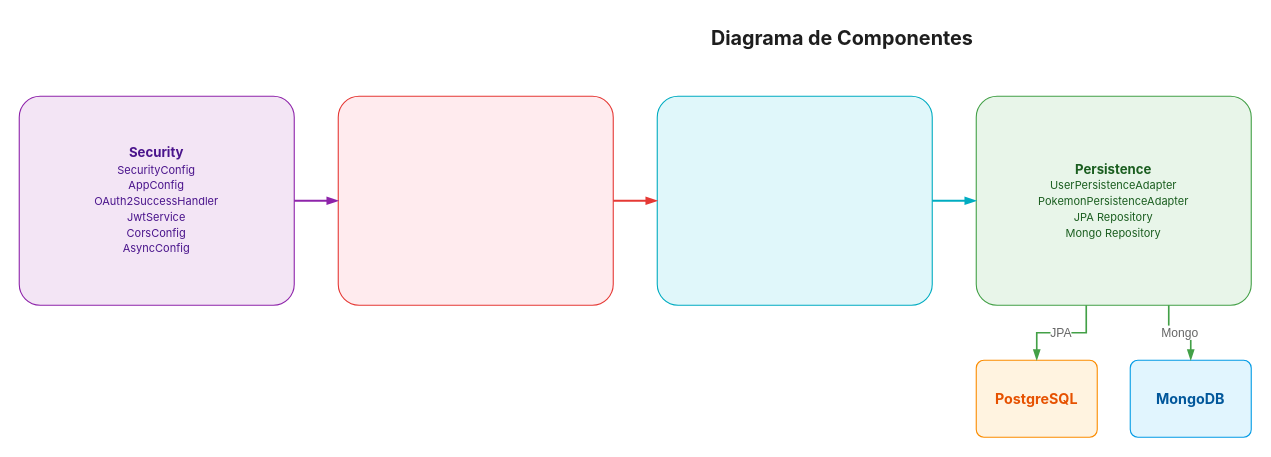
The diagram is 1271 pixels wide and 457 high, and some of its shapes have lost their labels. The centre of each missing label's shape, as x and y in pixels:
"Controller AuthController UserController TeamController PokemonController" goes at (x=475, y=200).
"Core AuthServiceImpl UserServiceImpl TeamServiceImpl PokemonServiceImpl" goes at (x=794, y=200).
